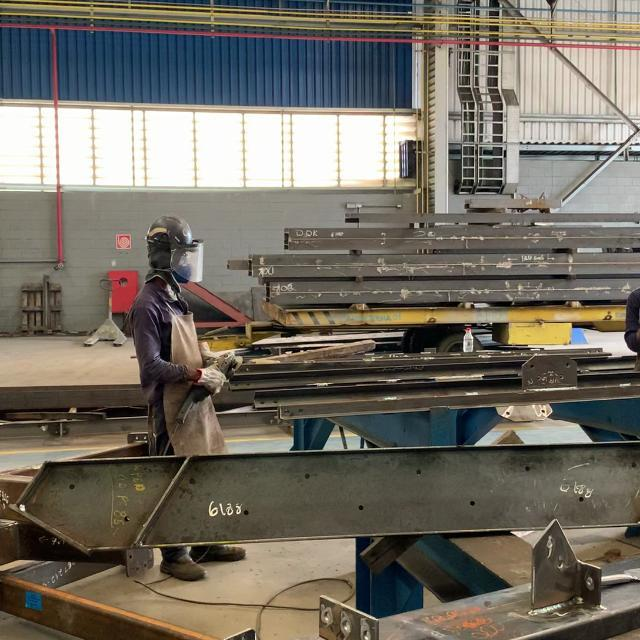face-shield: (168, 235, 200, 284)
glove: (196, 365, 229, 391)
helmet: (138, 216, 188, 238)
person: (132, 205, 237, 451)
safety-shoe: (158, 551, 209, 581), (188, 541, 249, 563)
